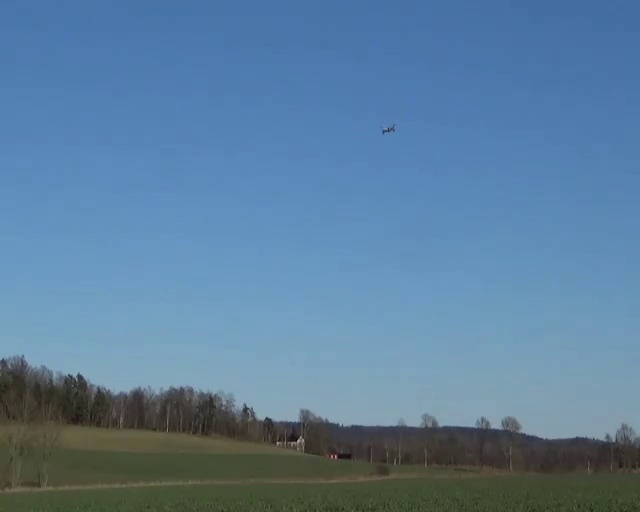DRONE: (381, 123, 396, 134)
